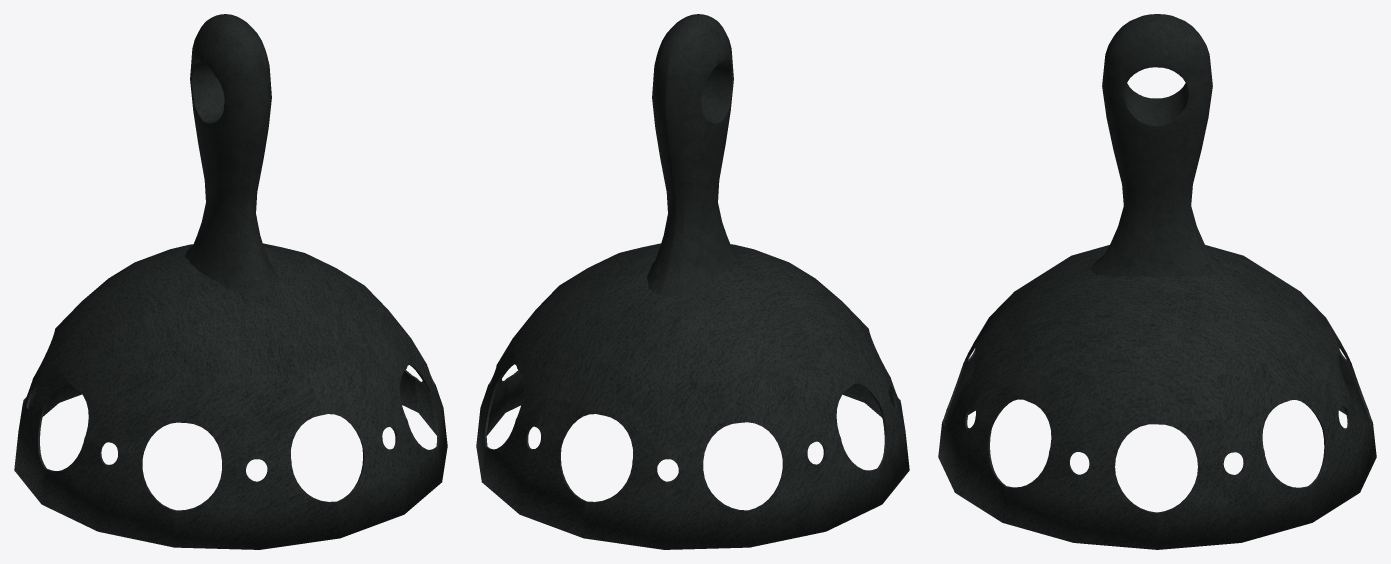
File: boubul_bell.fbx
3 views of the same model, side by side, from view 1: azimuth 30°, elevation 25°; view 2: azimuth 150°, elevation 25°; view 3: azimuth 270°, elevation 25° (orthographic).
Parts seen in each view (by area): view 1: Sphere, Sphere.001; view 2: Sphere, Sphere.001; view 3: Sphere, Sphere.001.
Part boxes in pixels (left/top/right/bottom): Sphere: left=14, top=243, right=447, bottom=549; Sphere.001: left=185, top=14, right=277, bottom=295; Sphere: left=476, top=243, right=909, bottom=549; Sphere.001: left=646, top=14, right=738, bottom=295; Sphere: left=938, top=245, right=1376, bottom=549; Sphere.001: left=1090, top=14, right=1224, bottom=277.
Size of the model in its own units: 200 by 222 by 200.
